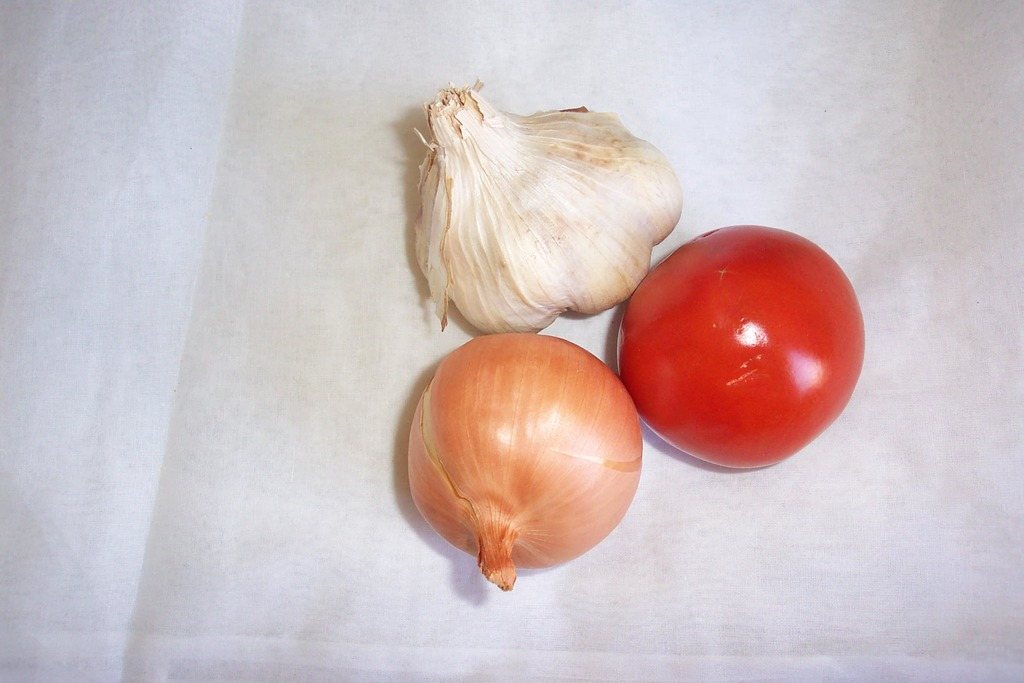Tomato: (616, 224, 865, 468)
